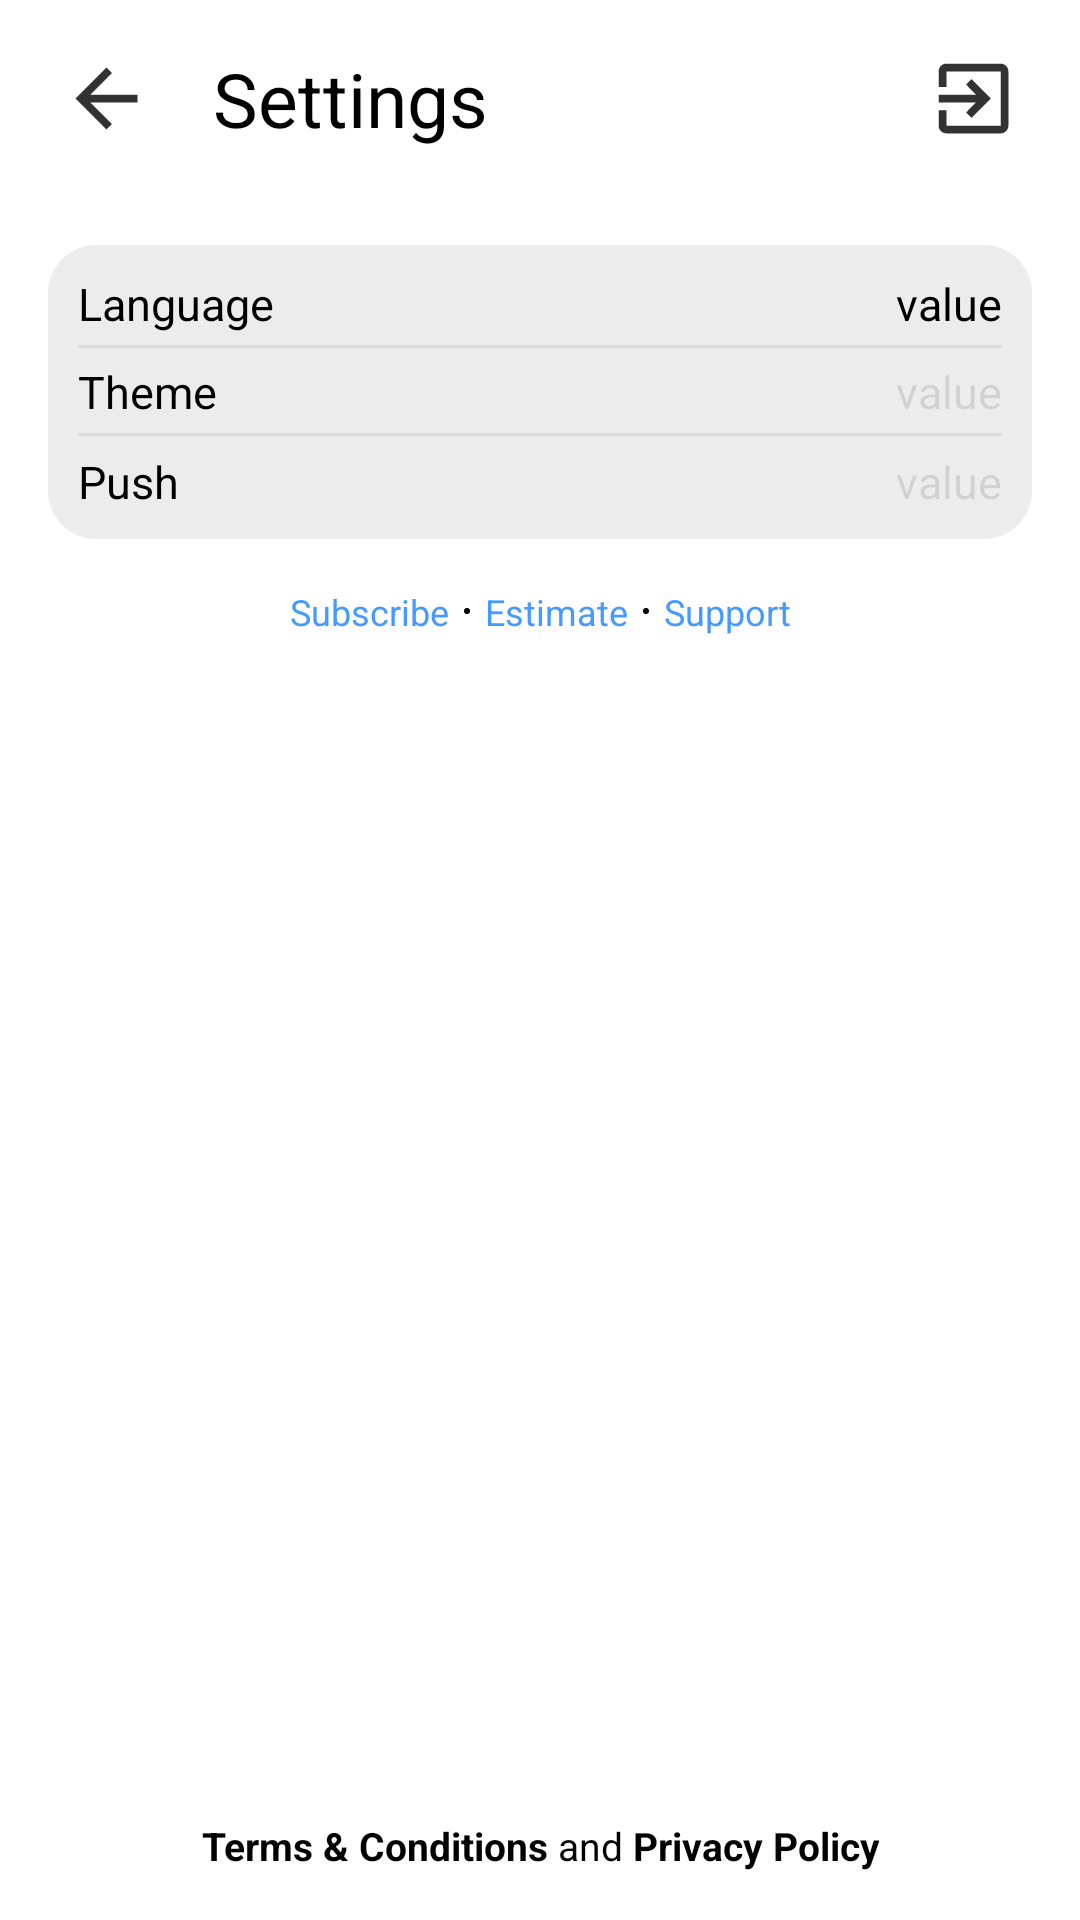

Named icons in this screenshot (1080px x 1920px) and their bounding boxes, (x1, y1, x2, y2):
Back: (75, 67, 138, 130)
Quit: (938, 63, 1009, 134)
